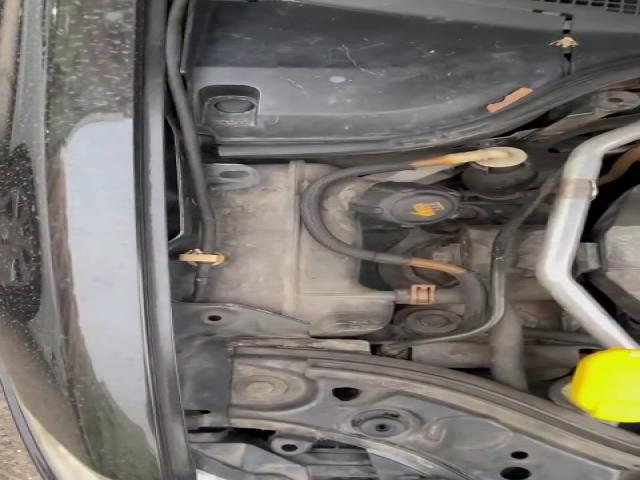antifreeze_tank: (208, 161, 393, 337), (322, 177, 459, 246)
